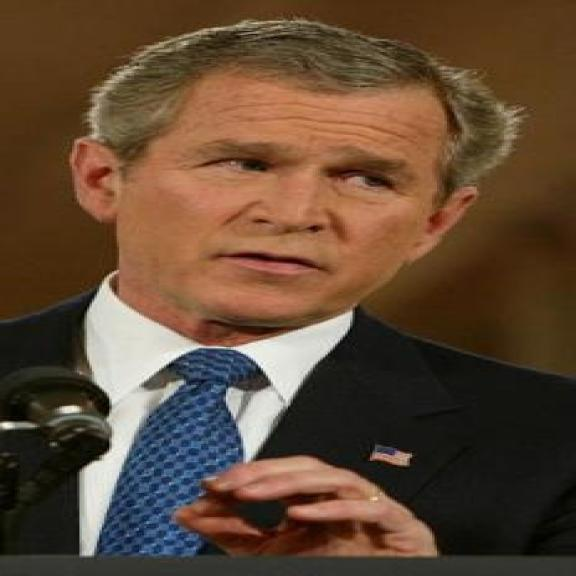face: (63, 53, 488, 326)
